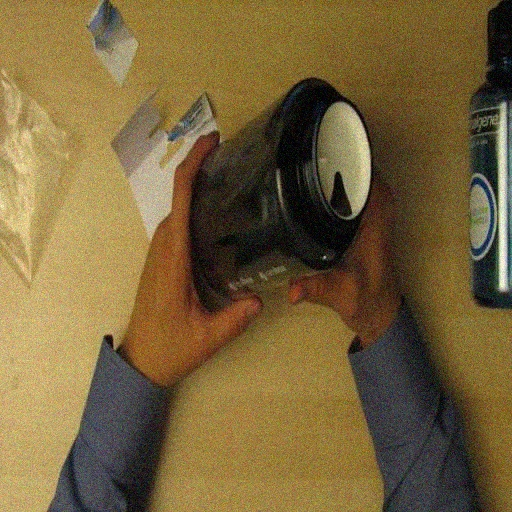bottle: (190, 78, 374, 311), (468, 4, 512, 308)
